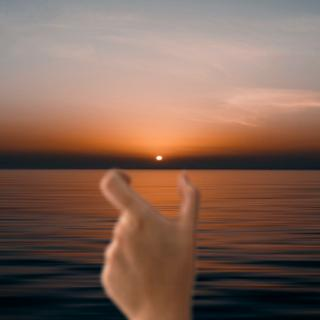Irritated: (98, 166, 219, 309)
